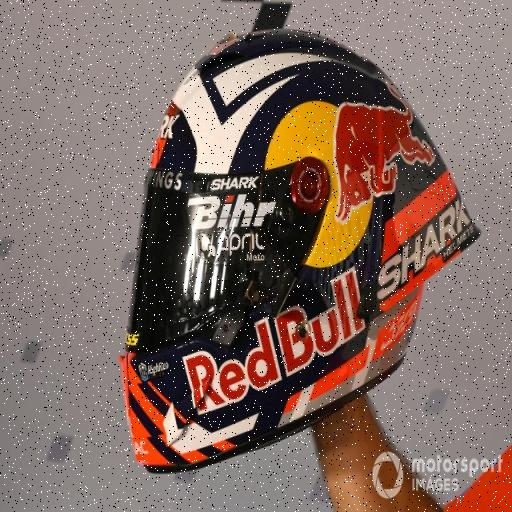Helmet: (85, 0, 482, 482)
